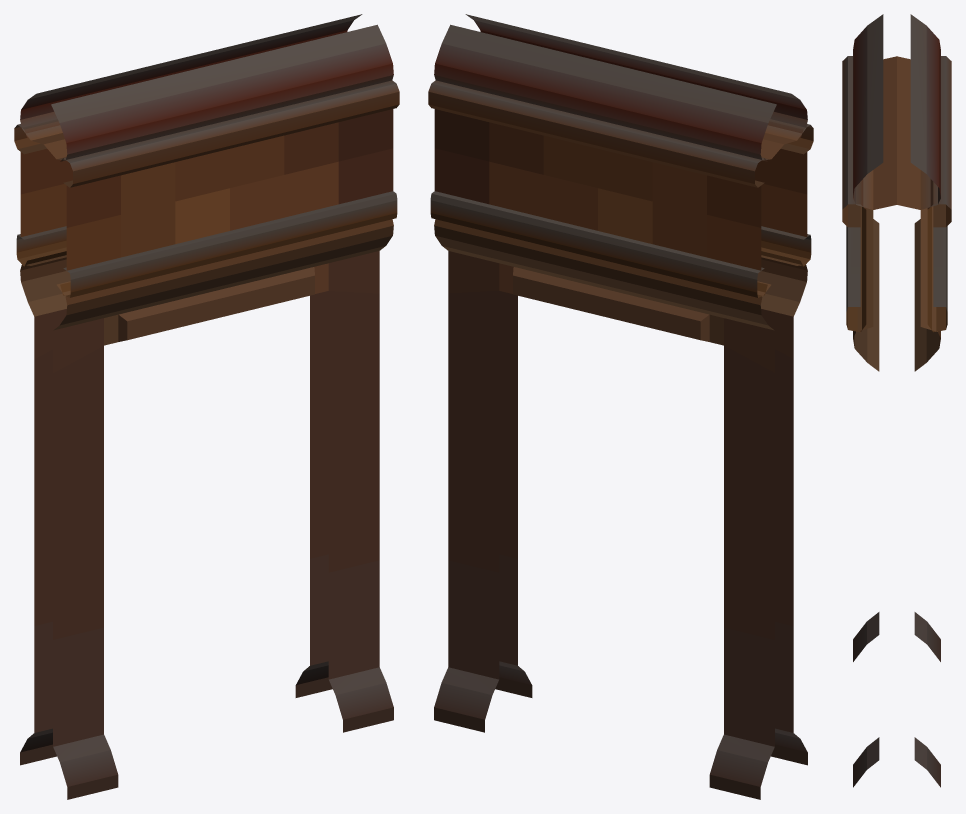
File: Wall_HomeA-PanelDoor-2m.fbx
3 renders of one model, left to right at view 1: azimuth 30°, elevation 25°; view 2: azimuth 150°, elevation 25°; view 3: azimuth 270°, elevation 25°, orthographic. The views are drawn at different scales.
Parts seen in each view (by area): view 1: Wall_HomeA-PanelDoor-2m; view 2: Wall_HomeA-PanelDoor-2m; view 3: Wall_HomeA-PanelDoor-2m.
Part boxes in pixels (box(x1,y1,x2,y2)): Wall_HomeA-PanelDoor-2m: box(14, 14, 399, 799); Wall_HomeA-PanelDoor-2m: box(428, 14, 813, 799); Wall_HomeA-PanelDoor-2m: box(842, 14, 951, 787).
Size of the model in its own units: 200 by 400 by 62.3.
